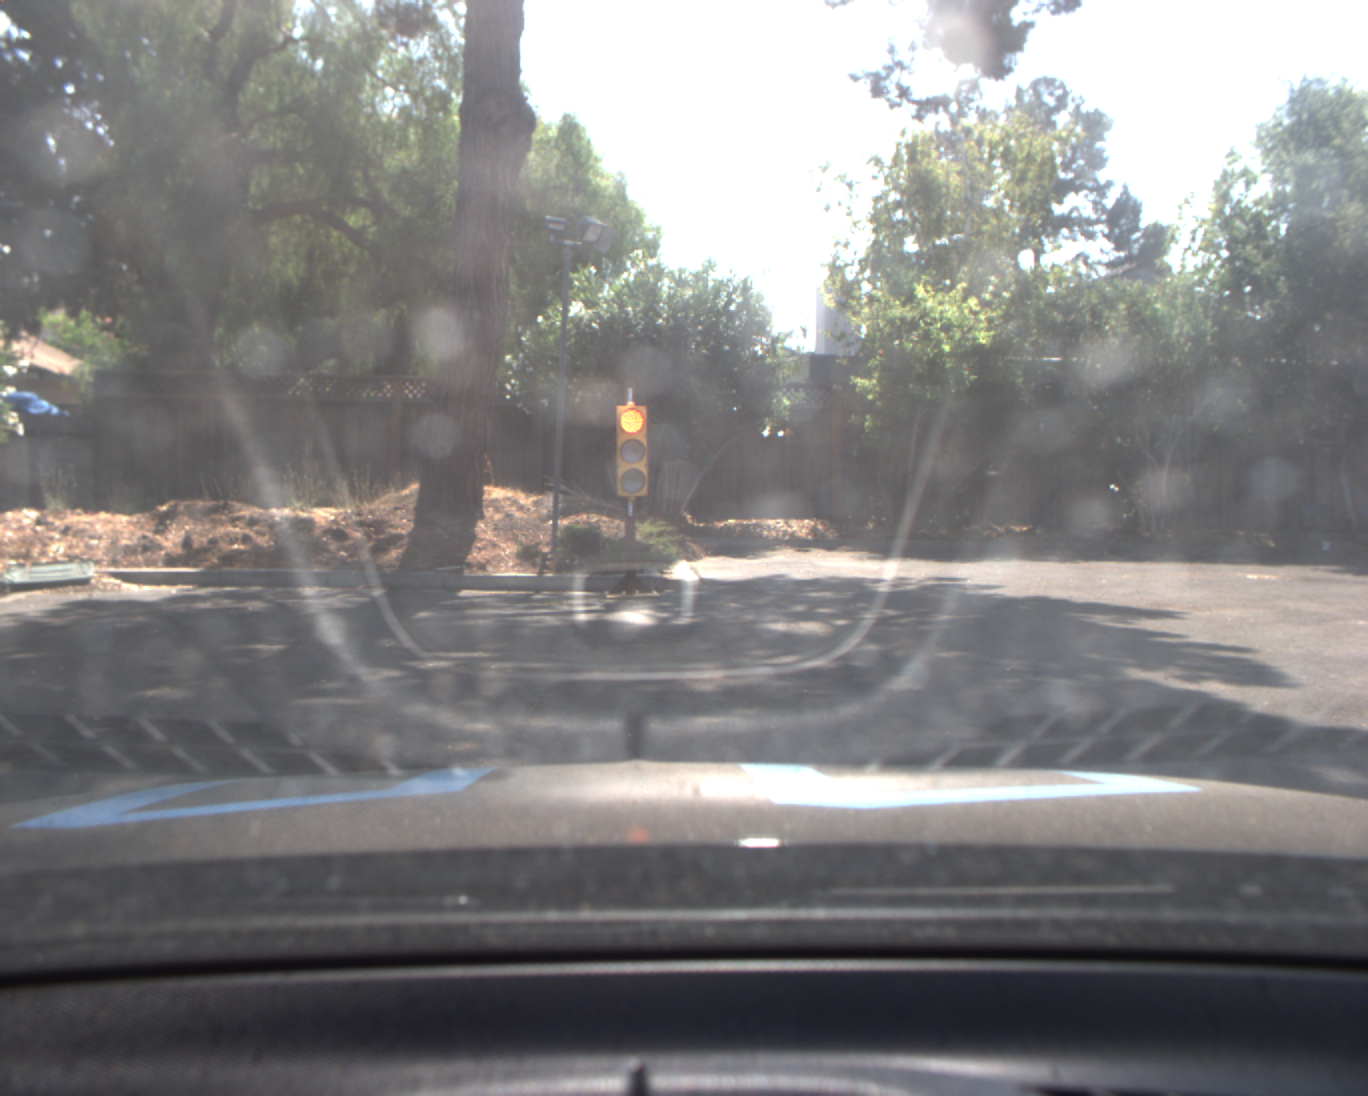red: (613, 400, 652, 499)
